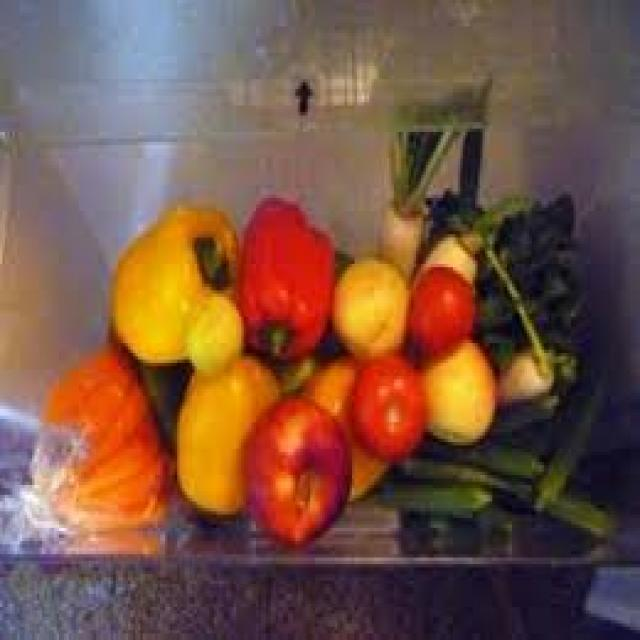organic waste: (27, 327, 185, 528), (421, 191, 591, 353), (108, 201, 239, 366), (172, 350, 278, 511), (236, 194, 335, 360), (233, 386, 344, 534), (293, 349, 386, 502), (376, 112, 456, 271), (411, 198, 532, 294), (527, 356, 603, 505), (416, 333, 495, 439), (349, 349, 424, 458), (330, 254, 406, 350), (492, 472, 613, 531), (404, 257, 470, 360), (416, 439, 542, 475), (396, 452, 500, 492), (374, 478, 492, 512), (495, 340, 549, 406), (495, 389, 551, 426), (546, 343, 581, 389)
